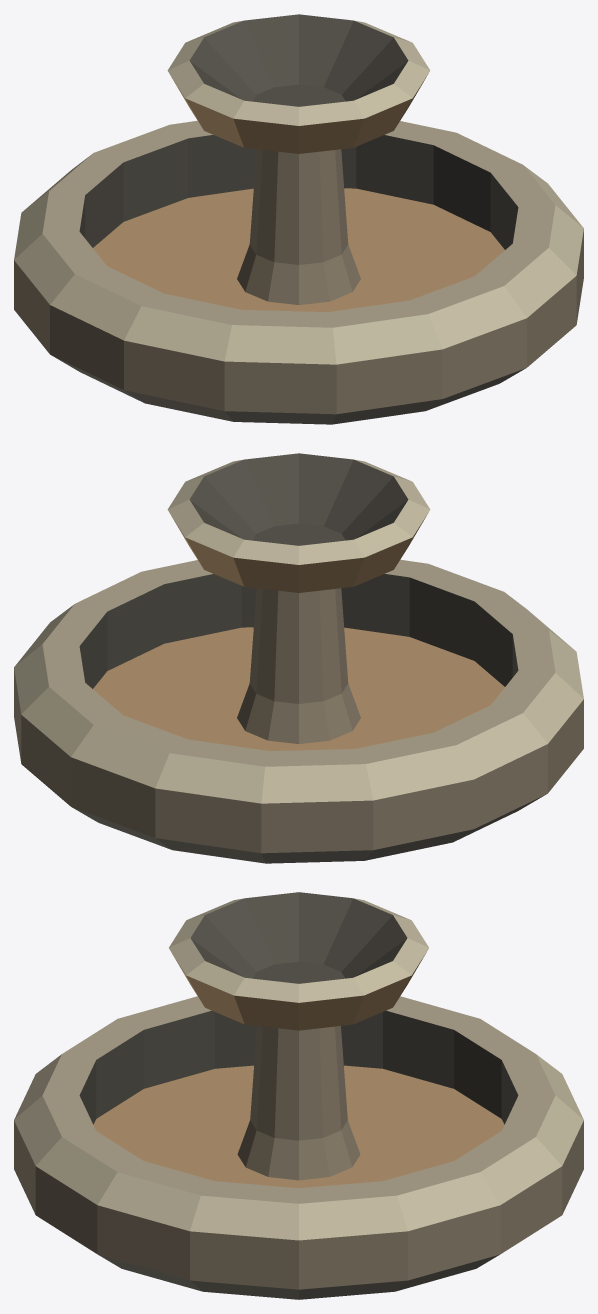
File: fountain.glb
The picture shows the model from 3 angles, top to bottom: view 1: azimuth 30°, elevation 25°; view 2: azimuth 150°, elevation 25°; view 3: azimuth 270°, elevation 25°; orthographic projection.
Parts seen in each view (by area): view 1: fountain__body; view 2: fountain__body; view 3: fountain__body.
Part boxes in pixels (x1,y1,x2,y2): fountain__body: (14,14,583,424); fountain__body: (14,453,583,863); fountain__body: (14,892,583,1299).
Size of the model in its own units: 2.1 by 1.04 by 2.1.
